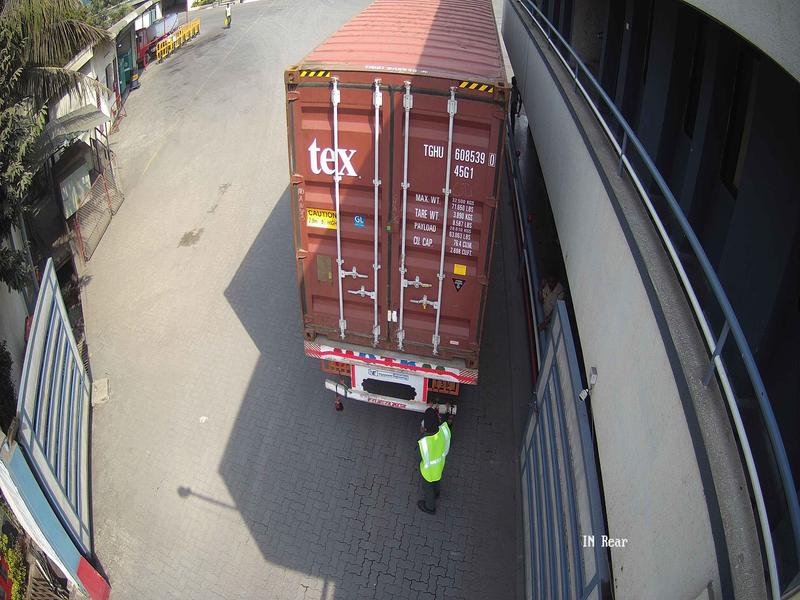container: (277, 54, 513, 398)
